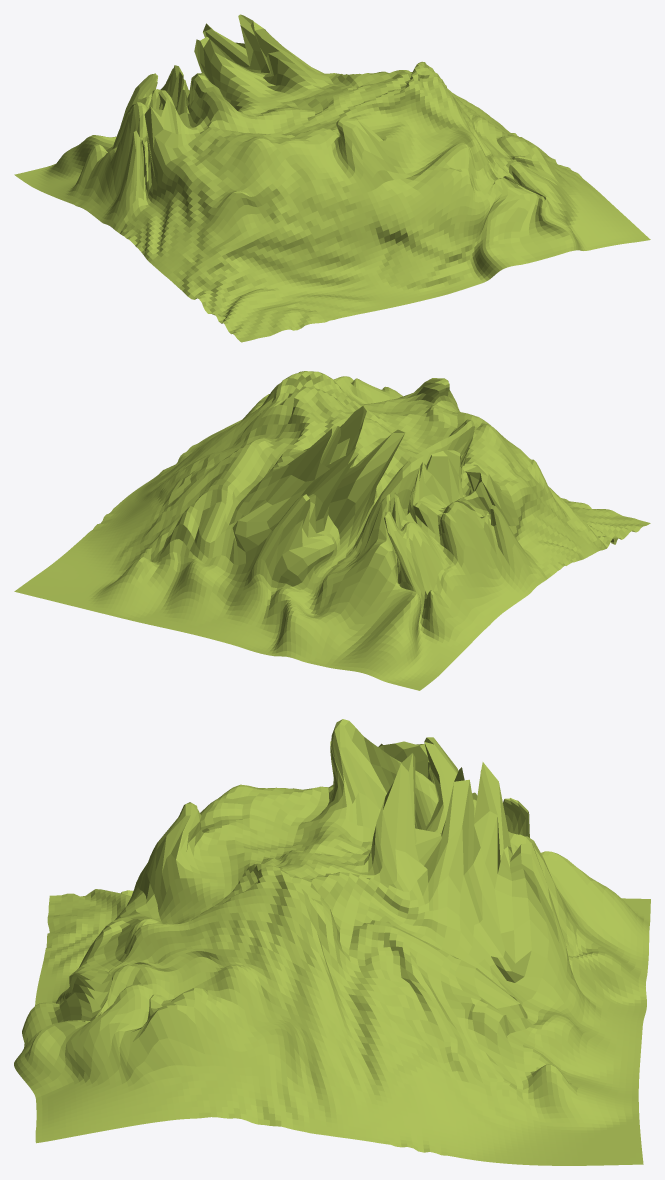
Rendered from mount.glb.
3 views of the same model, one above another, from view 1: azimuth 30°, elevation 25°; view 2: azimuth 150°, elevation 25°; view 3: azimuth 270°, elevation 25° (orthographic). The views are drawn at different scales.
Parts seen in each view (by area): view 1: Plane; view 2: Plane; view 3: Plane.
Part boxes in pixels (left/top/right/bottom): Plane: left=14, top=14, right=650, bottom=342; Plane: left=14, top=371, right=650, bottom=690; Plane: left=14, top=719, right=650, bottom=1165.
Bounding box in the file's own units: 1.95 × 0.8261 × 1.93.
